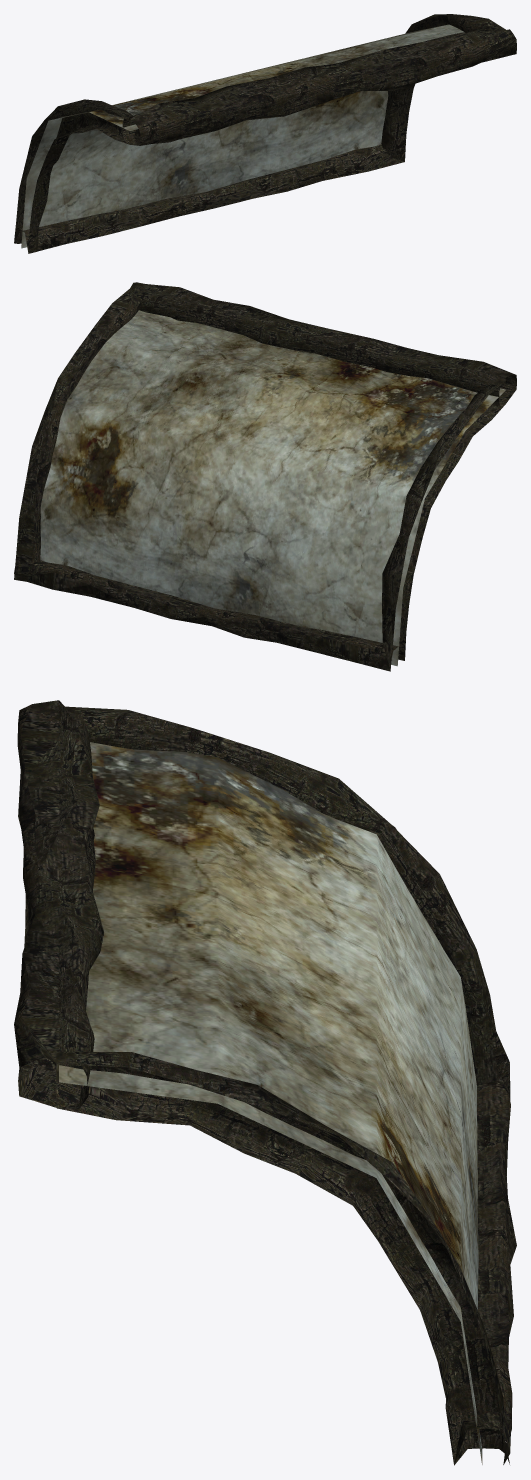
File: concave.dae
3 renders of one model, top to bottom at view 1: azimuth 30°, elevation 25°; view 2: azimuth 150°, elevation 25°; view 3: azimuth 270°, elevation 25°, orthographic. The views are drawn at different scales.
Parts seen in each view (by area): view 1: polySurface77, pPlane1; view 2: pPlane1, polySurface77; view 3: pPlane1, polySurface77.
Boxes of the visible parts, x1,y1,x2,y2 form: polySurface77: (14, 14, 516, 253); pPlane1: (21, 24, 464, 248); pPlane1: (40, 310, 505, 666); polySurface77: (14, 282, 516, 671); pPlane1: (59, 742, 482, 1464); polySurface77: (14, 700, 516, 1465).
Size of the model in its own units: 4 by 2.16 by 2.38.
